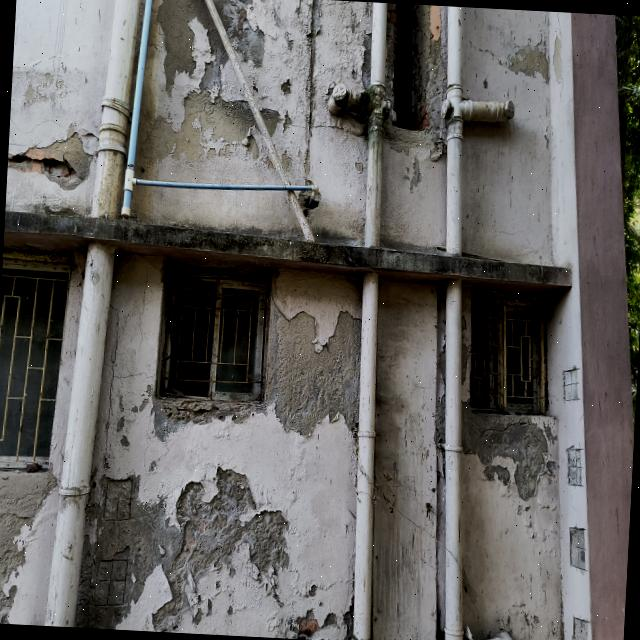Scaling: (74, 461, 287, 628), (146, 303, 360, 445), (131, 0, 296, 176), (460, 279, 560, 501), (284, 0, 384, 166), (464, 17, 577, 98), (0, 472, 58, 621), (13, 106, 98, 197), (431, 276, 449, 640), (269, 575, 356, 639)
pollution -moisture induced blackening: (4, 218, 578, 290)
